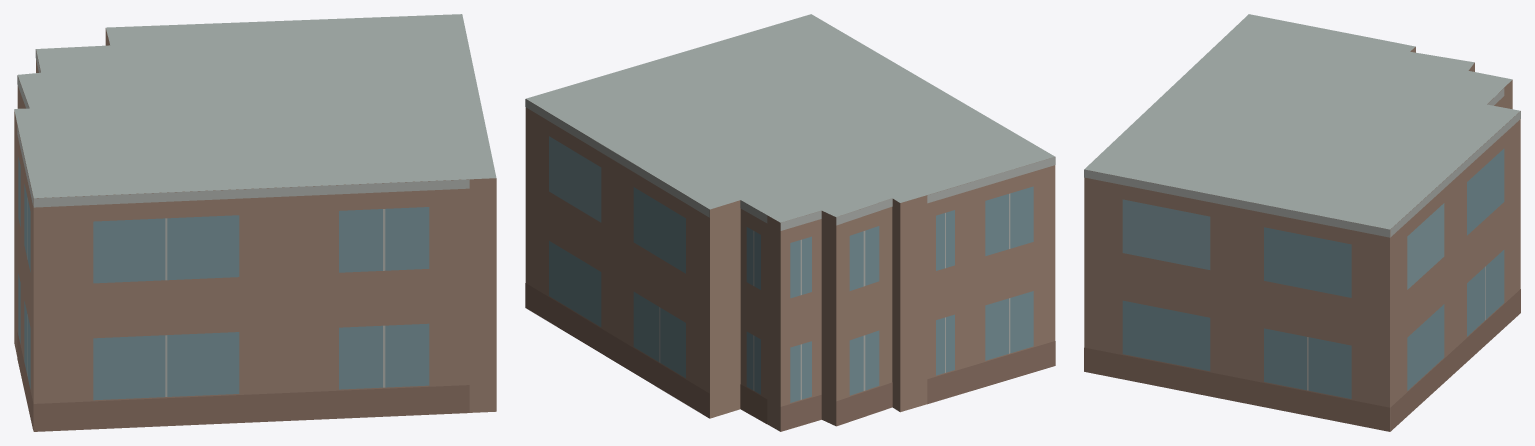
Rendered from survey-upis-32698076.glb.
3 renders of one model, left to right at view 1: azimuth 30°, elevation 25°; view 2: azimuth 150°, elevation 25°; view 3: azimuth 270°, elevation 25°, orthographic. The views are drawn at different scales.
Visible parts, largest first — view 1: survey-upis-32698076.tmp; view 2: survey-upis-32698076.tmp; view 3: survey-upis-32698076.tmp.
Part boxes in pixels (x1,y1,x2,y2): survey-upis-32698076.tmp: (14,14,496,431); survey-upis-32698076.tmp: (525,14,1055,431); survey-upis-32698076.tmp: (1084,14,1520,431).
Size of the model in its own units: 13.95 by 6.1 by 11.94.
